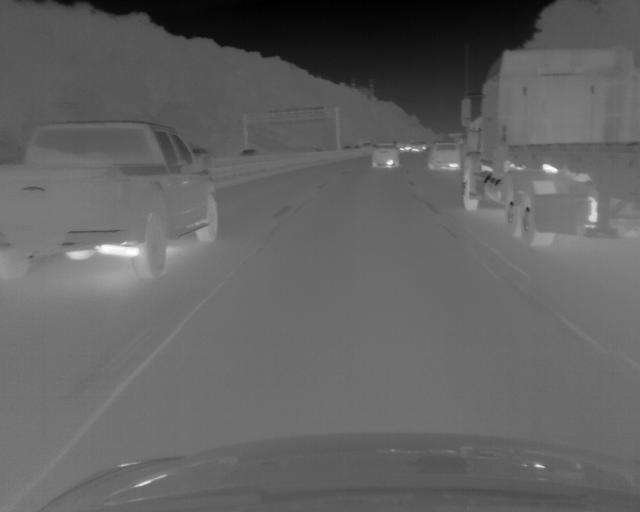car: (458, 46, 640, 254), (1, 121, 224, 283), (425, 142, 459, 171), (370, 142, 399, 169)
